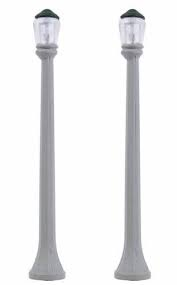light_pole: (114, 4, 153, 285), (29, 6, 67, 285)
